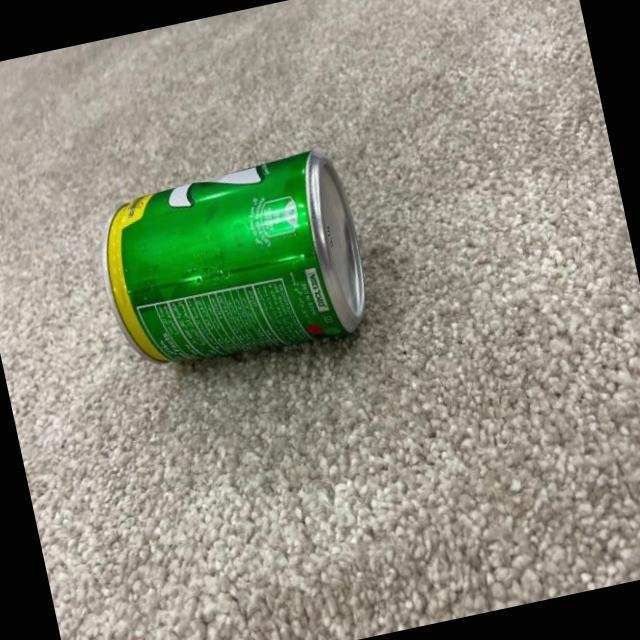can: (85, 141, 381, 387)
